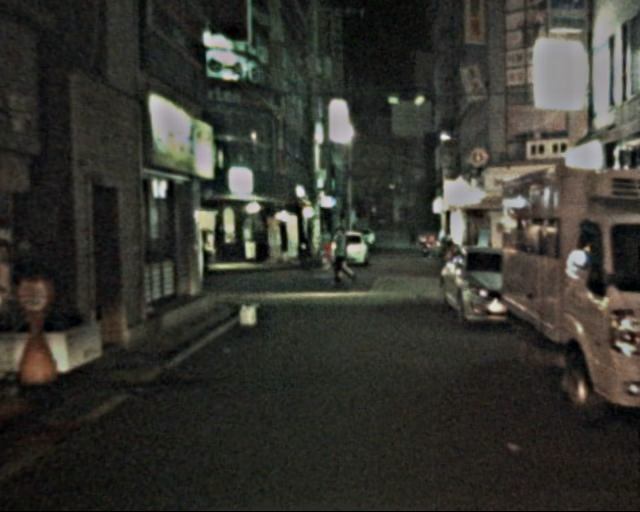person: (327, 224, 354, 289)
